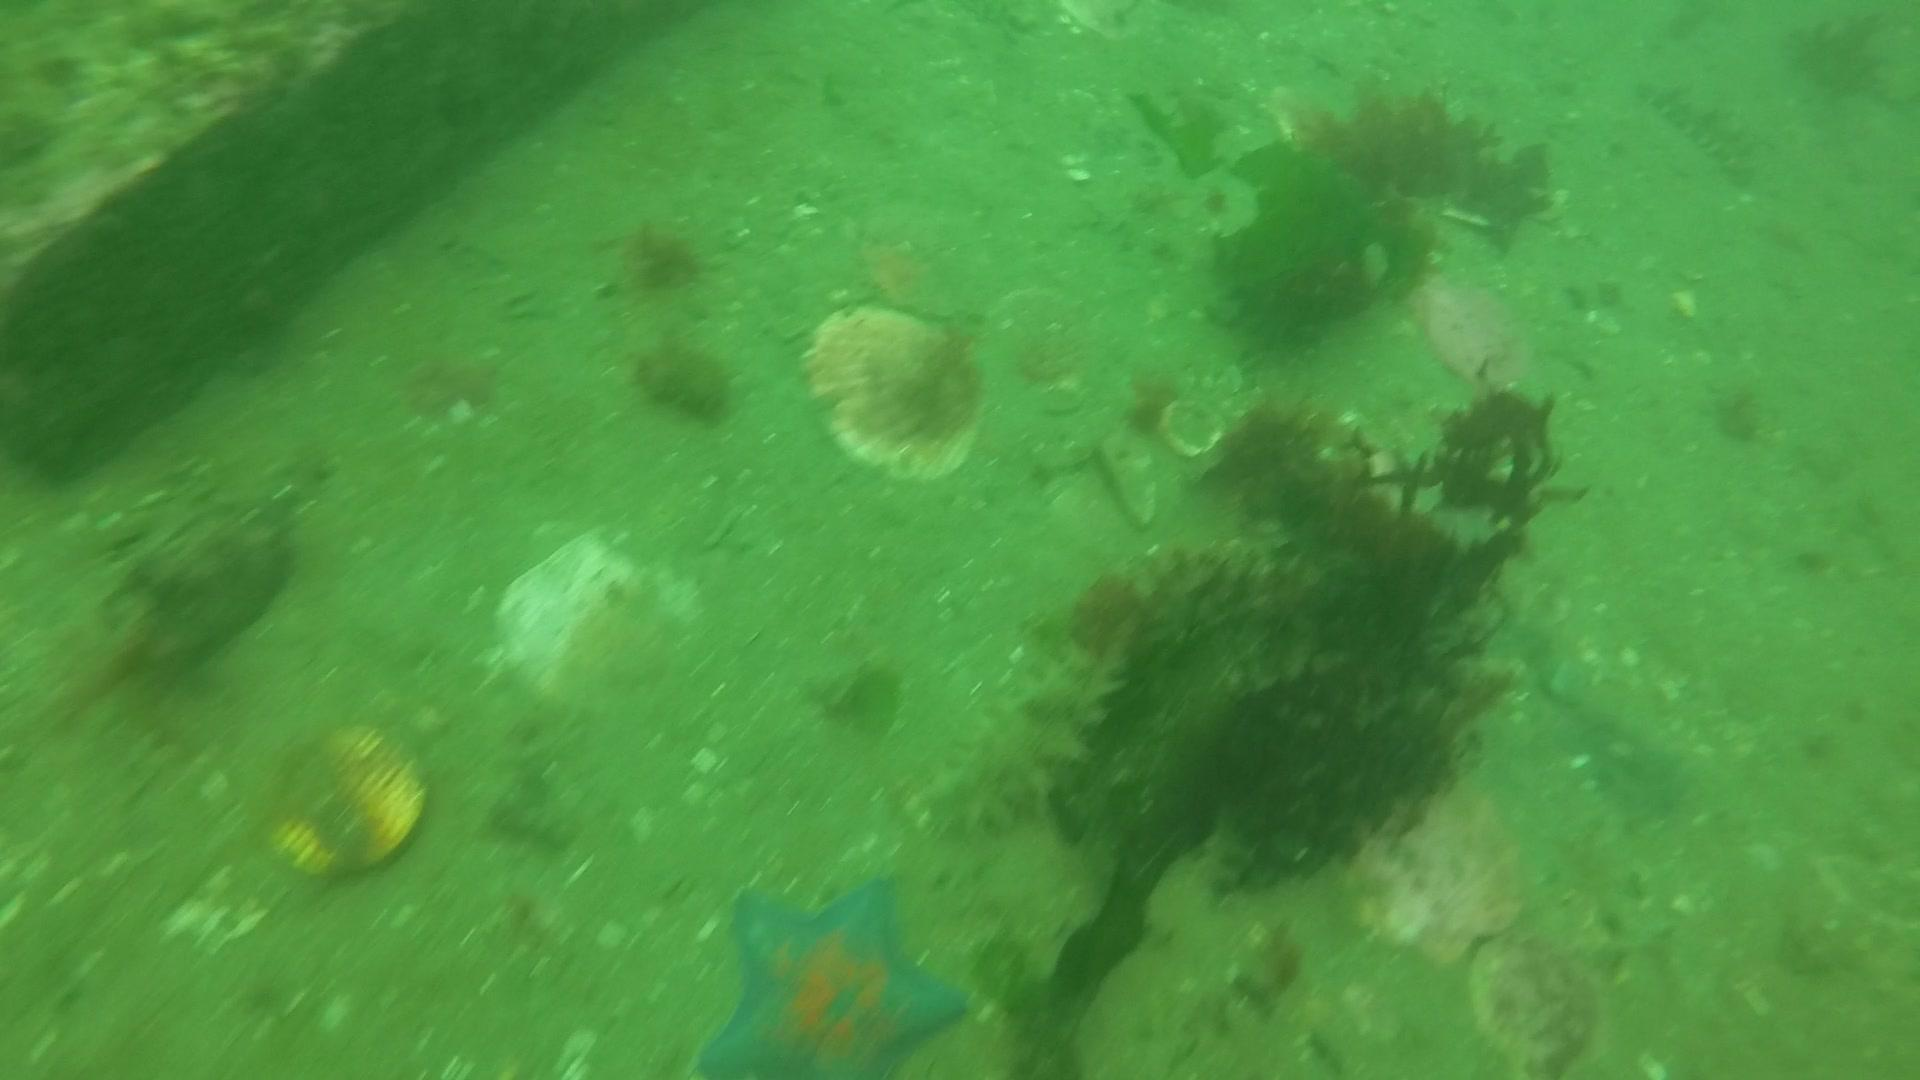holothurian: (914, 644, 1137, 847), (1640, 78, 1762, 182)
scallop: (465, 534, 720, 735), (245, 716, 435, 897), (808, 303, 996, 483), (1353, 790, 1519, 969), (1466, 934, 1611, 1075)
starfish: (691, 869, 980, 1080)
